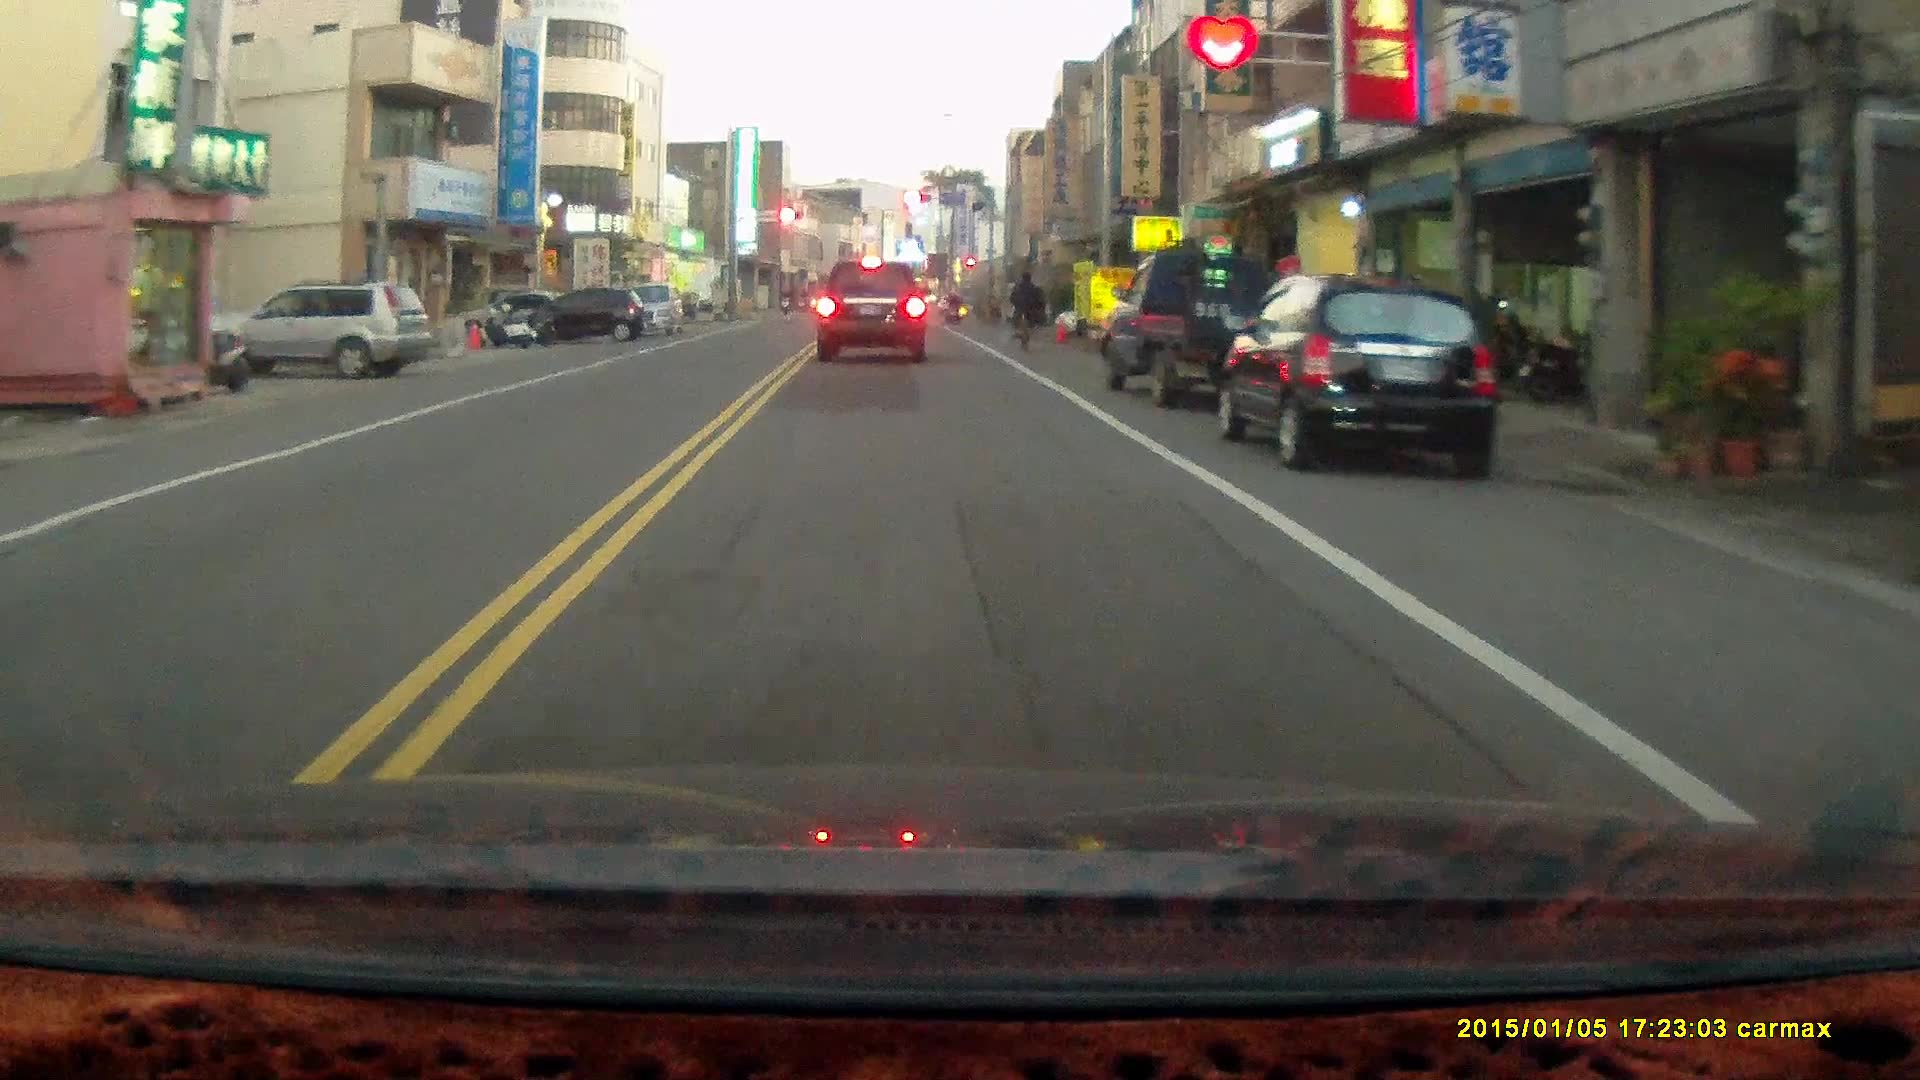rider: (1005, 267, 1041, 350)
vehicle: (1217, 272, 1499, 475), (1097, 247, 1298, 409), (206, 287, 435, 387), (815, 260, 931, 368), (522, 287, 652, 346)
